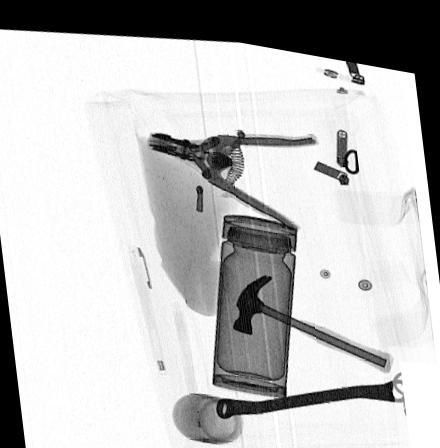Hammer: (229, 263, 394, 363)
Pliers: (146, 122, 325, 223)
Wrench: (212, 362, 413, 412)
